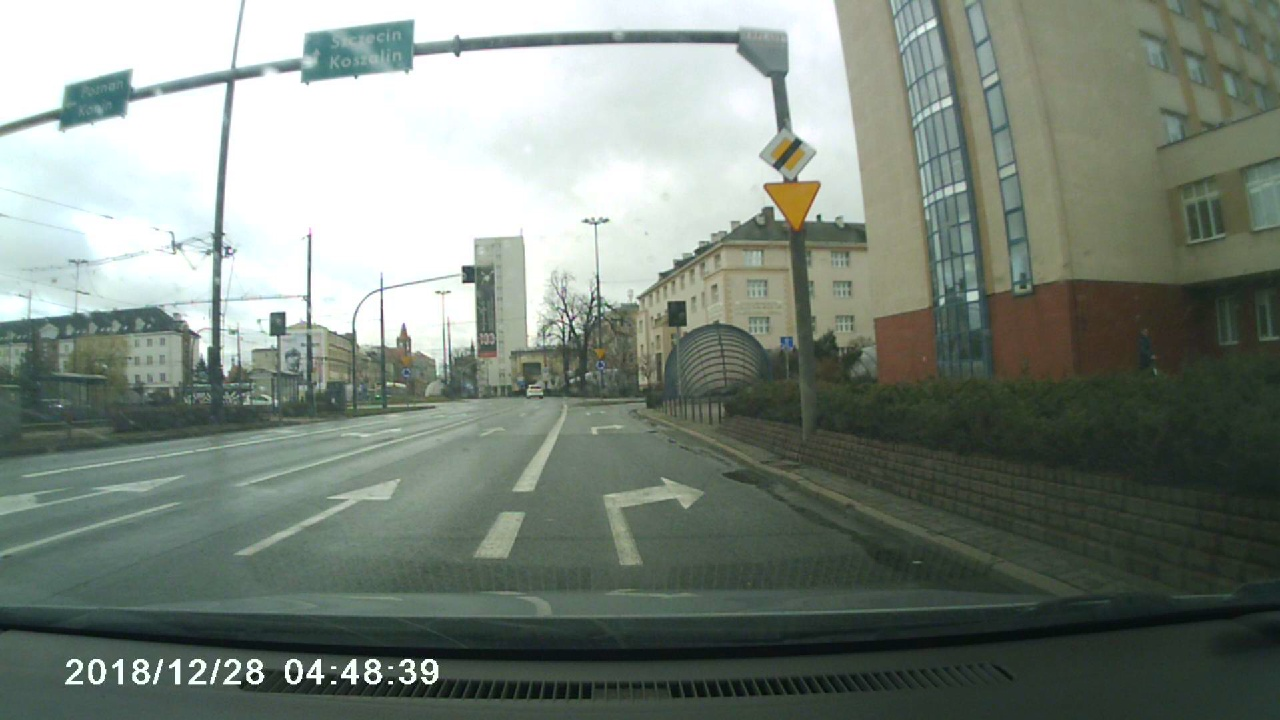A7: (763, 174, 824, 231)
D2: (755, 128, 823, 180)
